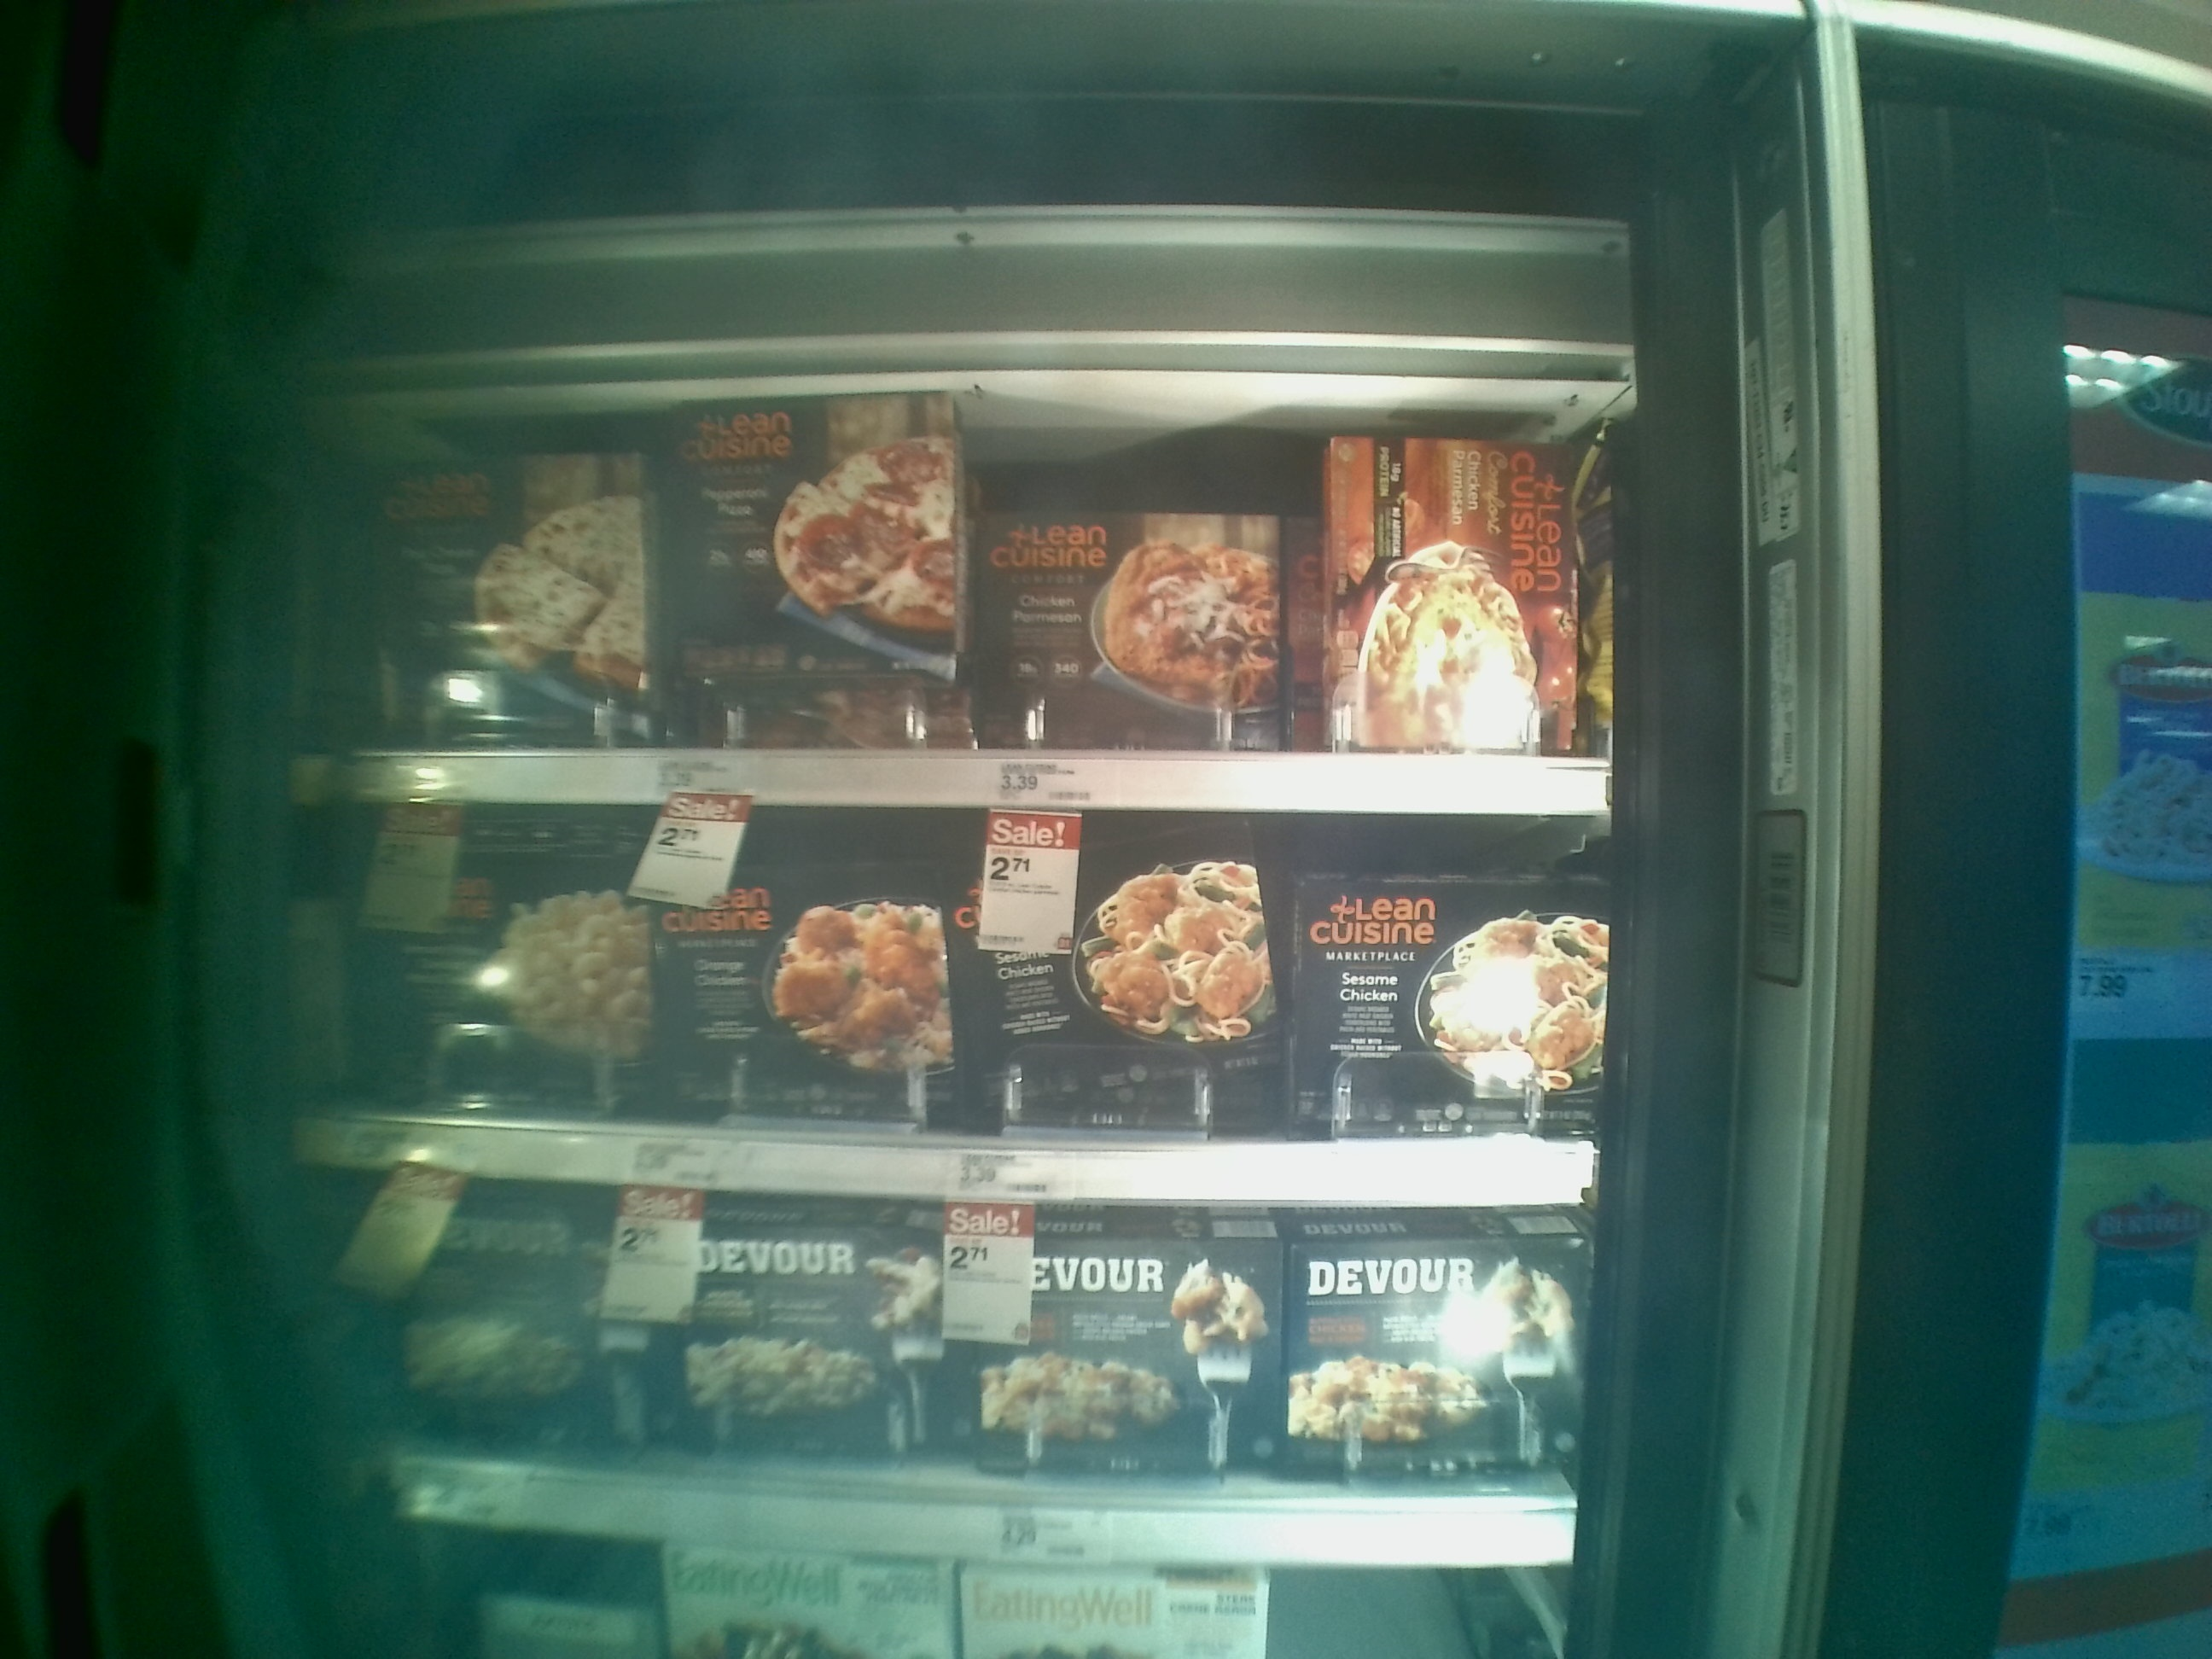shelf: (294, 342, 1623, 812), (324, 1166, 1587, 1577), (303, 803, 1601, 1202)
